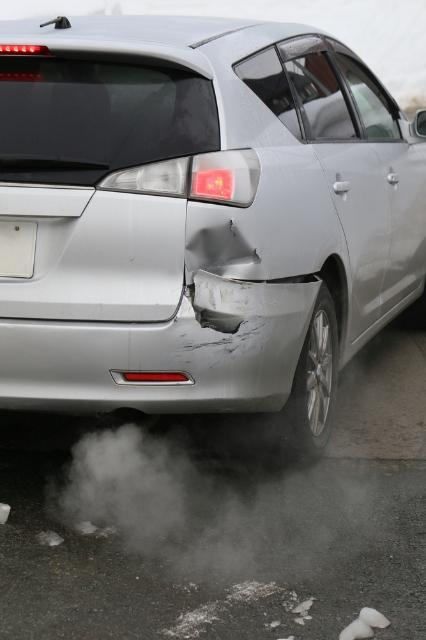crack: (192, 296, 245, 338)
dent: (185, 223, 259, 284)
scratch: (170, 283, 273, 374)
